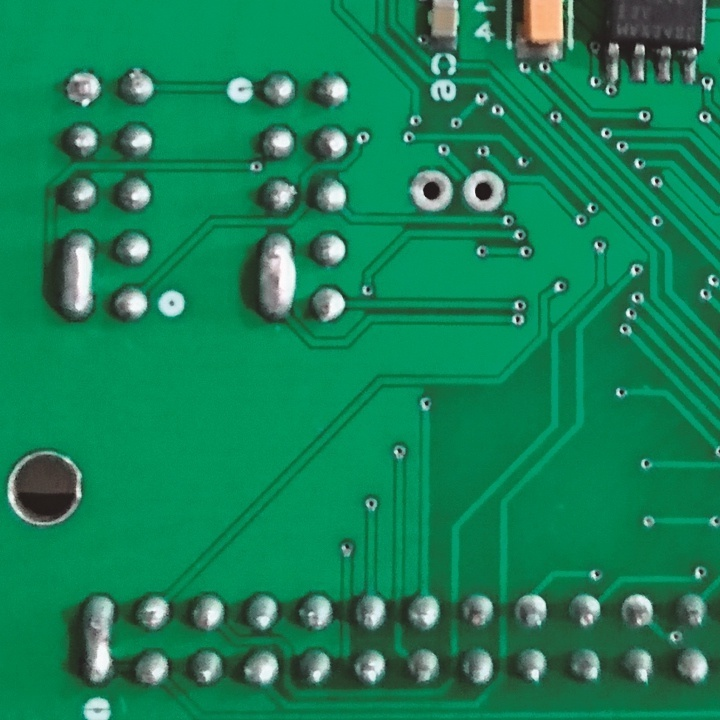F: (407, 166, 455, 216), (461, 167, 508, 218), (61, 66, 106, 112), (617, 589, 658, 632), (510, 589, 548, 635)
P: (250, 221, 300, 326), (74, 586, 120, 693), (53, 227, 99, 323)
